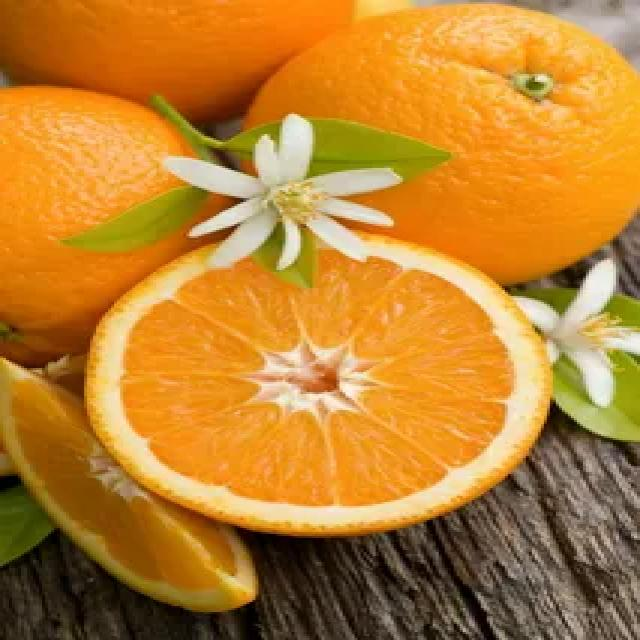orange: (85, 227, 557, 545)
